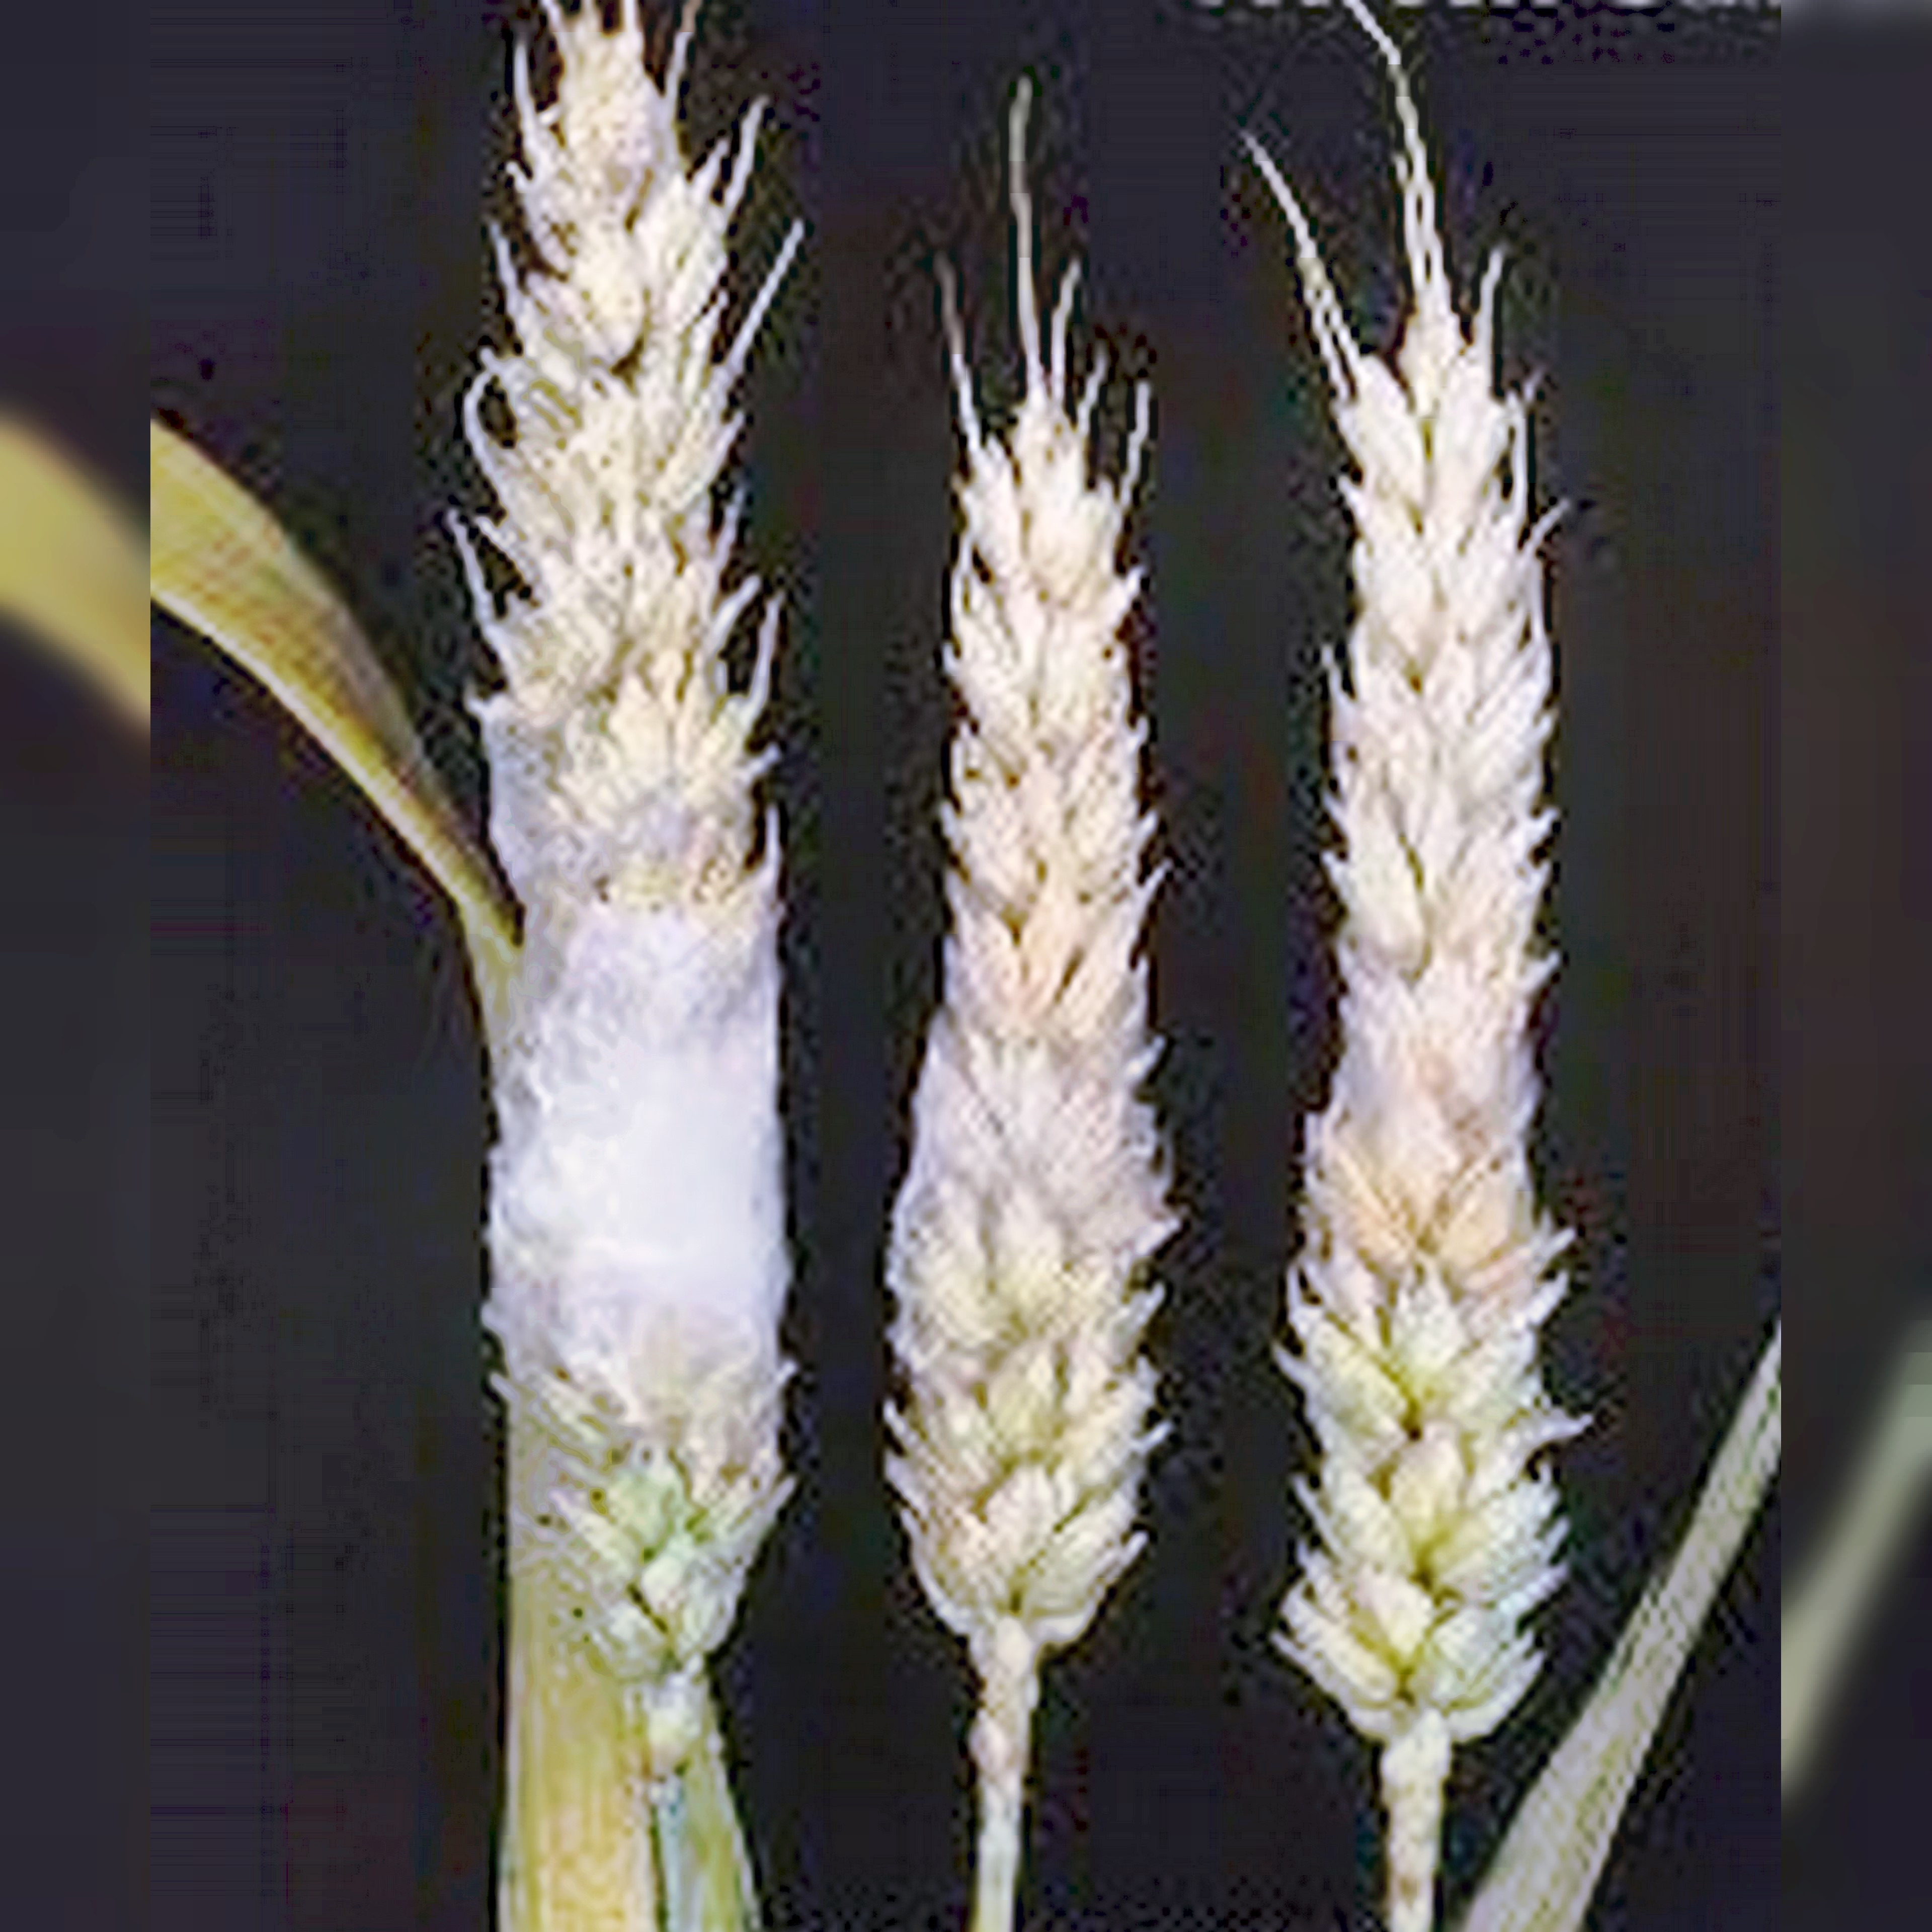Wheat scab: (1180, 258, 1628, 1792)
